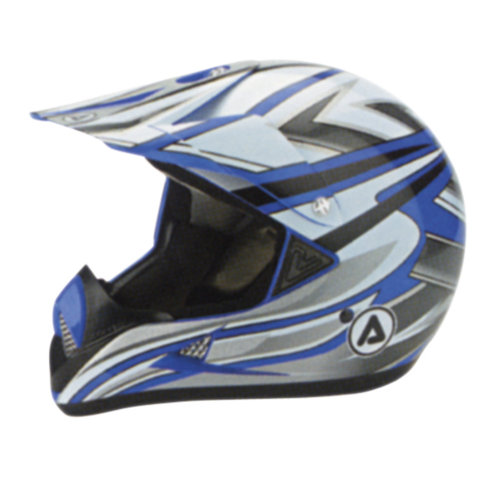helmet: (61, 62, 450, 391)
